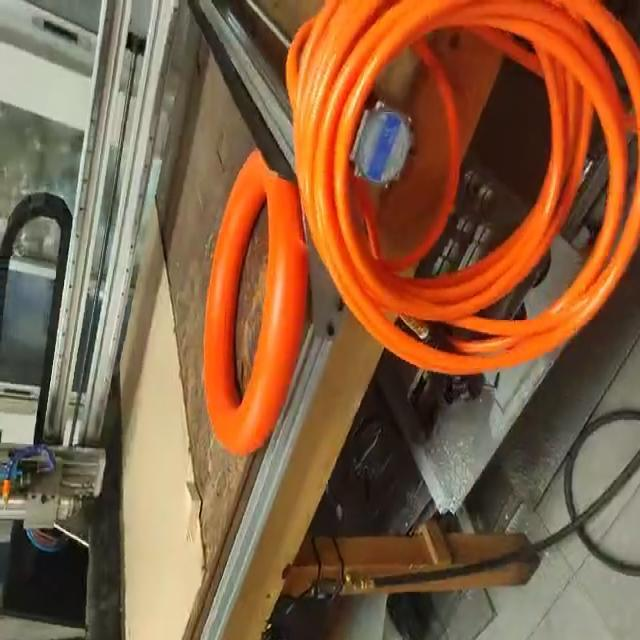note: (204, 154, 306, 456)
